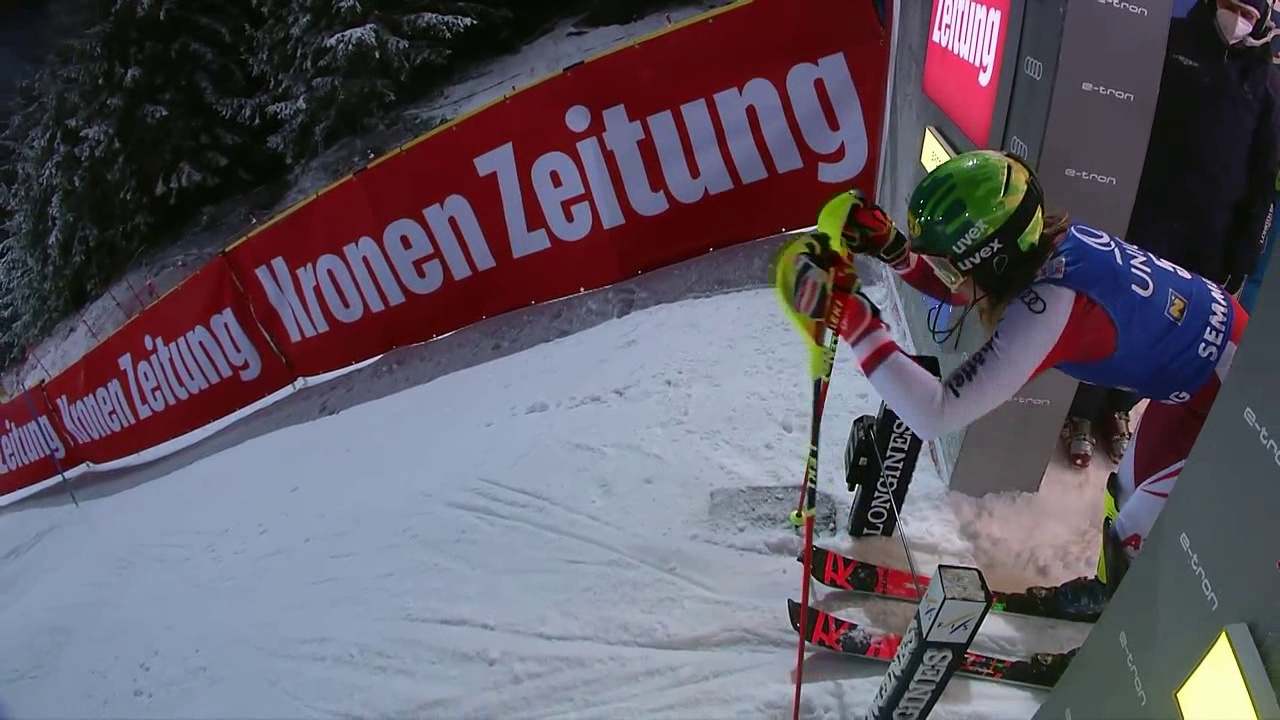kronenzeitung: (68, 277, 244, 472), (1, 407, 59, 505)
longines: (854, 415, 921, 542), (868, 633, 956, 714)
